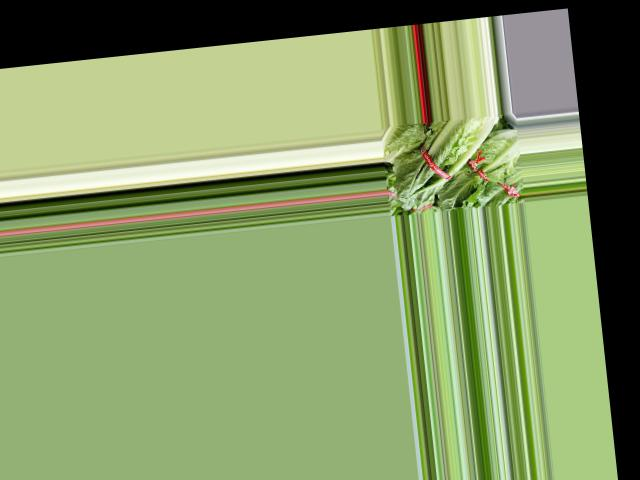lettuce: (386, 114, 505, 212)
